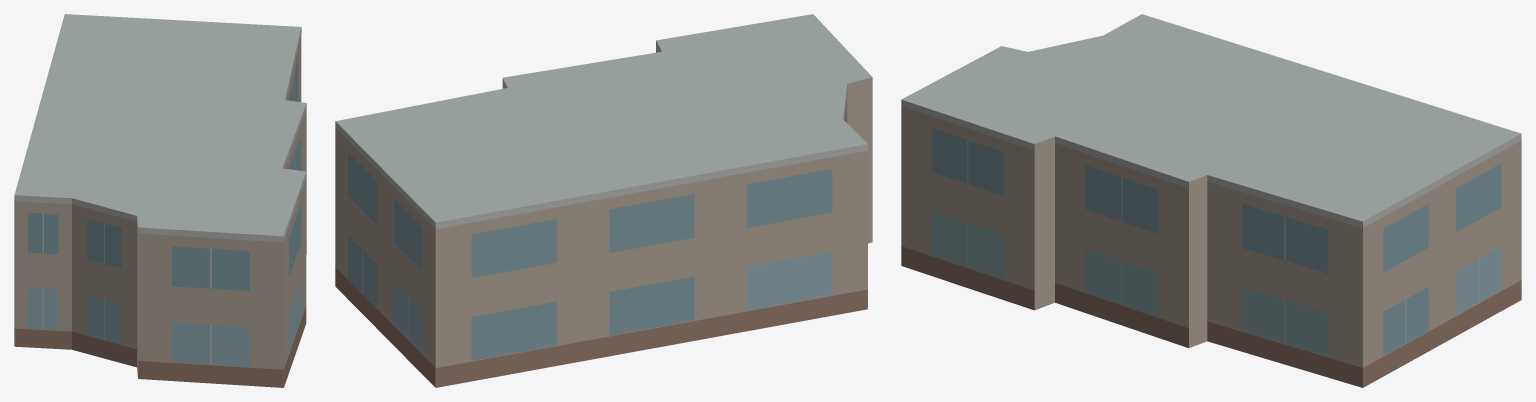
Rendered from survey-upis-32654954.glb.
3 views of the same model, side by side, from view 1: azimuth 30°, elevation 25°; view 2: azimuth 150°, elevation 25°; view 3: azimuth 270°, elevation 25° (orthographic). The views are drawn at different scales.
Parts seen in each view (by area): view 1: survey-upis-32654954.tmp; view 2: survey-upis-32654954.tmp; view 3: survey-upis-32654954.tmp.
Boxes of the visible parts, <box> form: survey-upis-32654954.tmp: <box>14,14,306,387</box>; survey-upis-32654954.tmp: <box>335,14,872,387</box>; survey-upis-32654954.tmp: <box>901,14,1521,387</box>.
Size of the model in its own units: 16.34 by 6.1 by 20.63.
